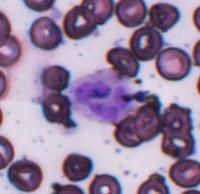N: (70, 68, 134, 123)
